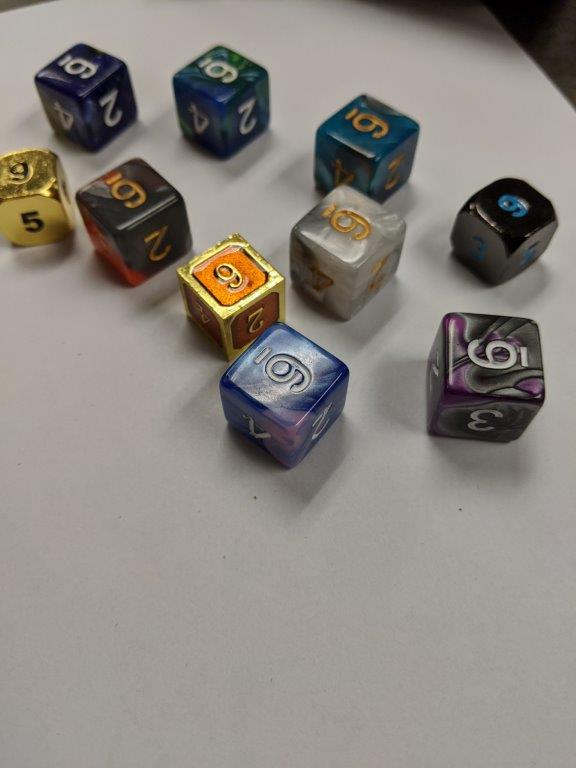d6-6: (216, 319, 350, 467), (423, 310, 546, 446), (291, 182, 406, 317), (75, 158, 192, 290), (174, 233, 282, 357), (174, 42, 274, 166), (32, 41, 138, 155), (315, 94, 420, 204), (452, 178, 557, 283), (1, 146, 81, 253)
